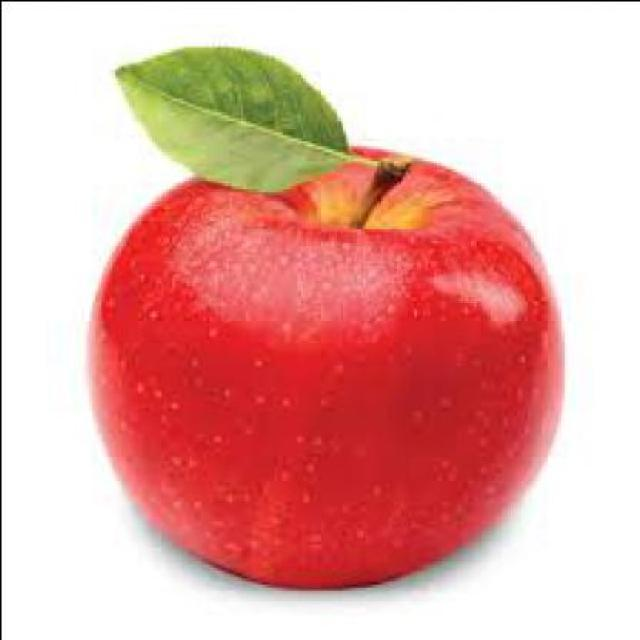BIODEGRADABLE: (95, 152, 560, 591), (112, 46, 372, 197)
